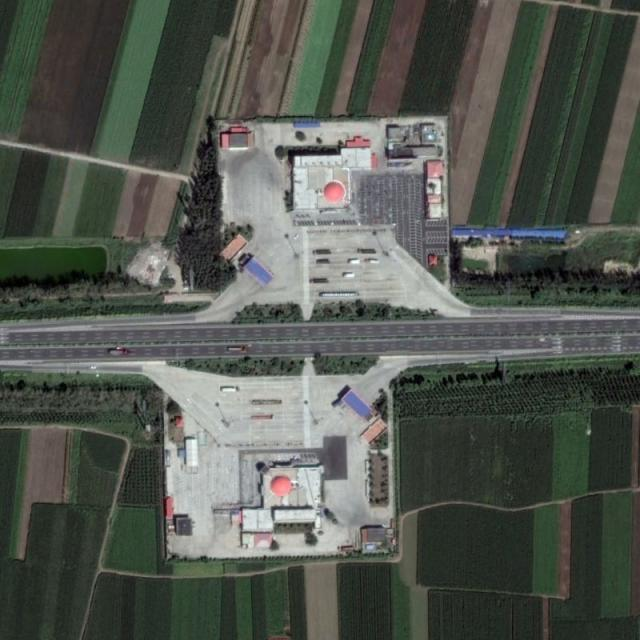vehicle: (320, 292, 359, 298), (251, 414, 274, 421), (252, 400, 283, 405), (310, 278, 329, 284), (221, 387, 239, 393), (110, 350, 127, 356), (226, 346, 246, 351), (357, 249, 377, 254), (364, 258, 379, 264), (314, 250, 332, 254), (348, 259, 360, 264), (342, 273, 354, 278), (316, 261, 330, 264), (294, 234, 298, 240)
